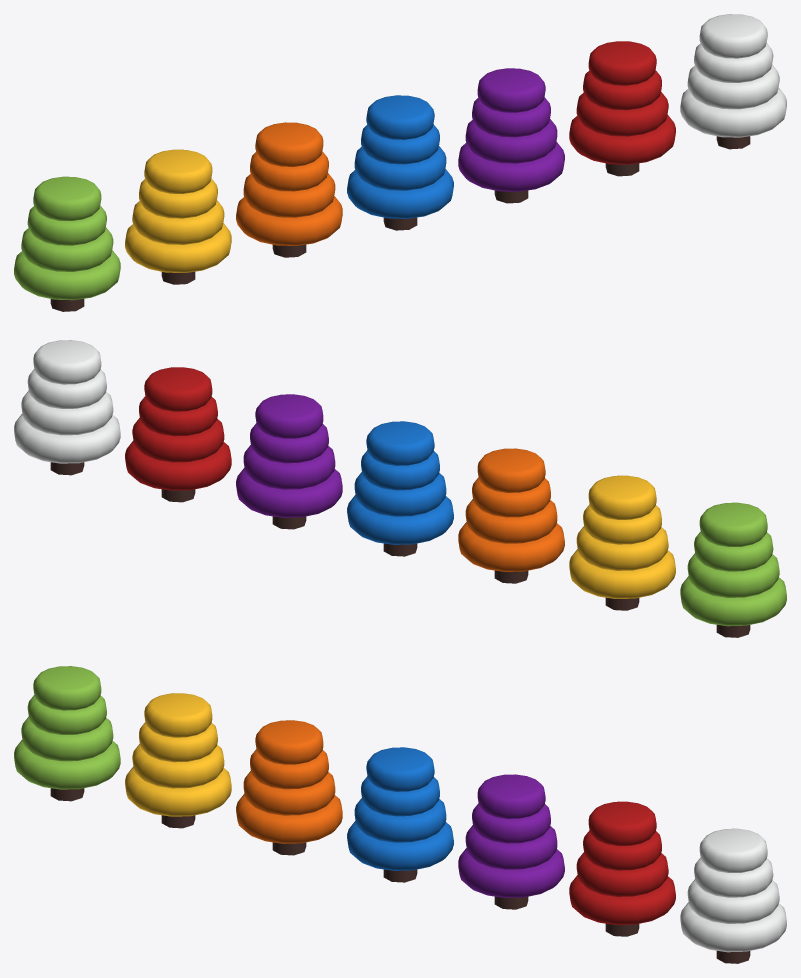
File: Trees.fbx
3 views of the same model, one above another, from view 1: azimuth 30°, elevation 25°; view 2: azimuth 150°, elevation 25°; view 3: azimuth 330°, elevation 25° (orthographic).
Visible parts, largest first — view 1: Tree_Green, Tree_Yellow, Tree_Orange, Tree_White, Tree_Blue, Tree_Red, Tree_Purple; view 2: Tree_Green, Tree_Yellow, Tree_Orange, Tree_White, Tree_Blue, Tree_Red, Tree_Purple; view 3: Tree_Red, Tree_White, Tree_Purple, Tree_Green, Tree_Blue, Tree_Yellow, Tree_Orange.
Part boxes in pixels (x1=…): Tree_Green: x1=14, y1=176, x2=120, y2=311; Tree_Yellow: x1=125, y1=149, x2=231, y2=284; Tree_Orange: x1=236, y1=122, x2=342, y2=257; Tree_White: x1=680, y1=14, x2=786, y2=149; Tree_Blue: x1=347, y1=95, x2=453, y2=230; Tree_Red: x1=569, y1=41, x2=675, y2=176; Tree_Purple: x1=458, y1=68, x2=564, y2=203; Tree_Green: x1=680, y1=502, x2=786, y2=637; Tree_Yellow: x1=569, y1=475, x2=675, y2=610; Tree_Orange: x1=458, y1=448, x2=564, y2=583; Tree_White: x1=14, y1=340, x2=120, y2=475; Tree_Blue: x1=347, y1=421, x2=453, y2=556; Tree_Red: x1=125, y1=367, x2=231, y2=502; Tree_Purple: x1=236, y1=394, x2=342, y2=529; Tree_Red: x1=569, y1=801, x2=675, y2=936; Tree_White: x1=680, y1=828, x2=786, y2=963; Tree_Purple: x1=458, y1=774, x2=564, y2=909; Tree_Green: x1=14, y1=666, x2=120, y2=801; Tree_Blue: x1=347, y1=747, x2=453, y2=882; Tree_Yellow: x1=125, y1=693, x2=231, y2=828; Tree_Orange: x1=236, y1=720, x2=342, y2=855.
Bounding box in the file's own units: 6.84 × 0.8392 × 1.
